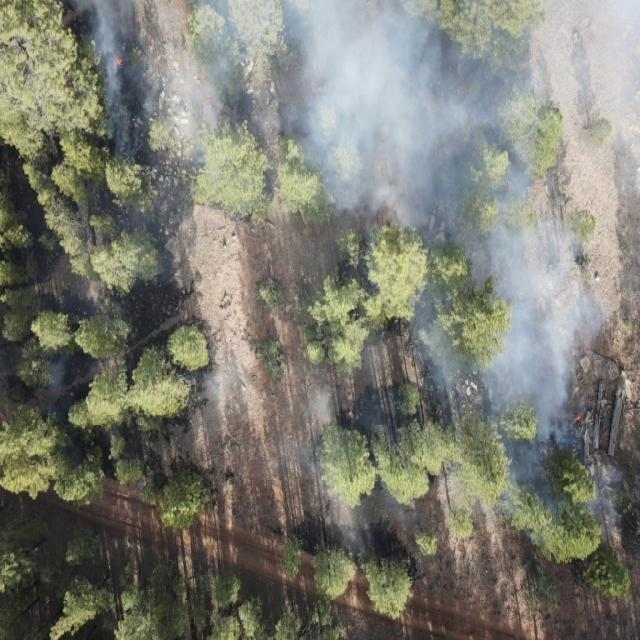fire: (112, 52, 126, 69), (574, 412, 584, 423)
smoke: (0, 0, 640, 160), (294, 294, 619, 566), (132, 160, 640, 294), (194, 352, 252, 412), (44, 353, 74, 398)
